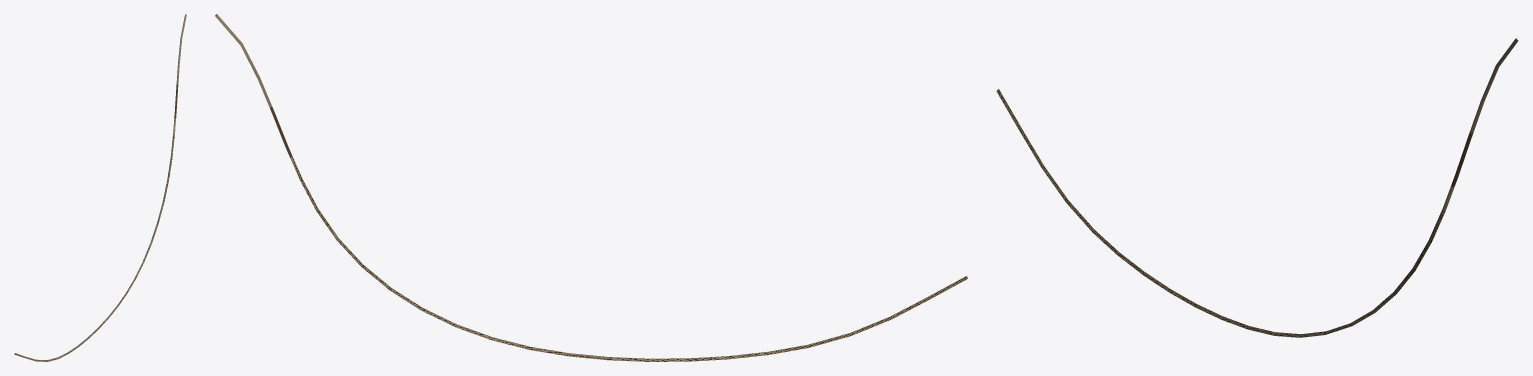
The model's file is JAM_Ropes_01.fbx.
3 renders of one model, left to right at view 1: azimuth 30°, elevation 25°; view 2: azimuth 150°, elevation 25°; view 3: azimuth 270°, elevation 25°, orthographic. The views are drawn at different scales.
Visible parts, largest first — view 1: Rope_01; view 2: Rope_01; view 3: Rope_01.
Part boxes in pixels (x1,y1,x2,y2): Rope_01: (14,14,186,361); Rope_01: (215,14,967,361); Rope_01: (996,38,1518,337).
Bounding box in the file's own units: 9.43 × 6.48 × 7.07.
